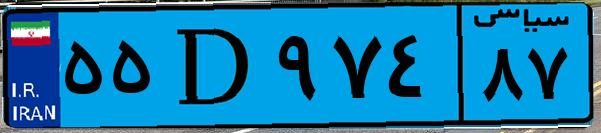4: (385, 28, 445, 110)
5: (57, 26, 110, 100), (110, 28, 158, 98)
7: (330, 28, 385, 110), (525, 38, 570, 115)
8: (475, 38, 525, 113)
9: (270, 28, 330, 110)
D: (158, 12, 270, 120)
